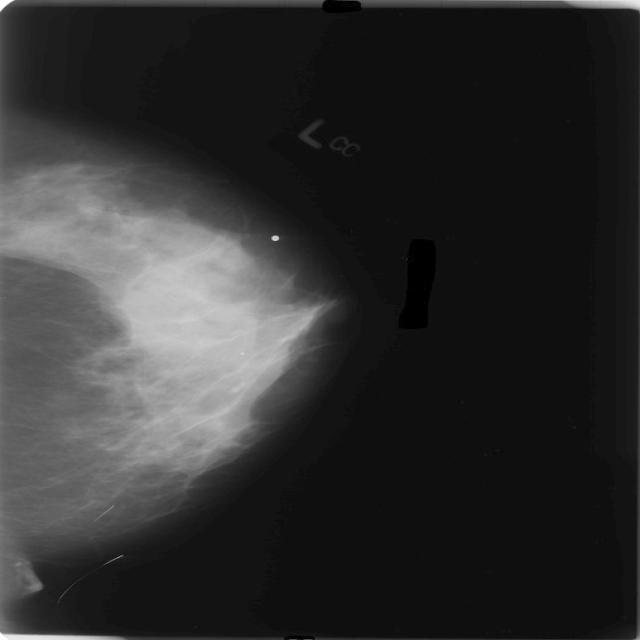tumour: (120, 288, 213, 349)
